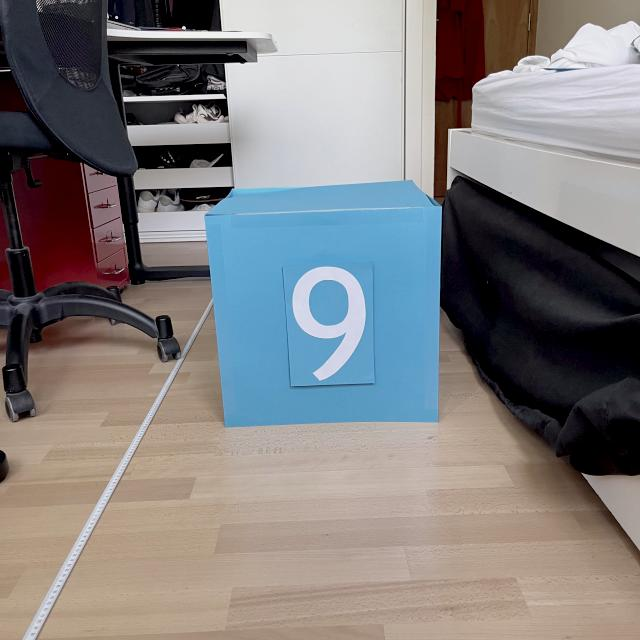box: (200, 176, 446, 429)
